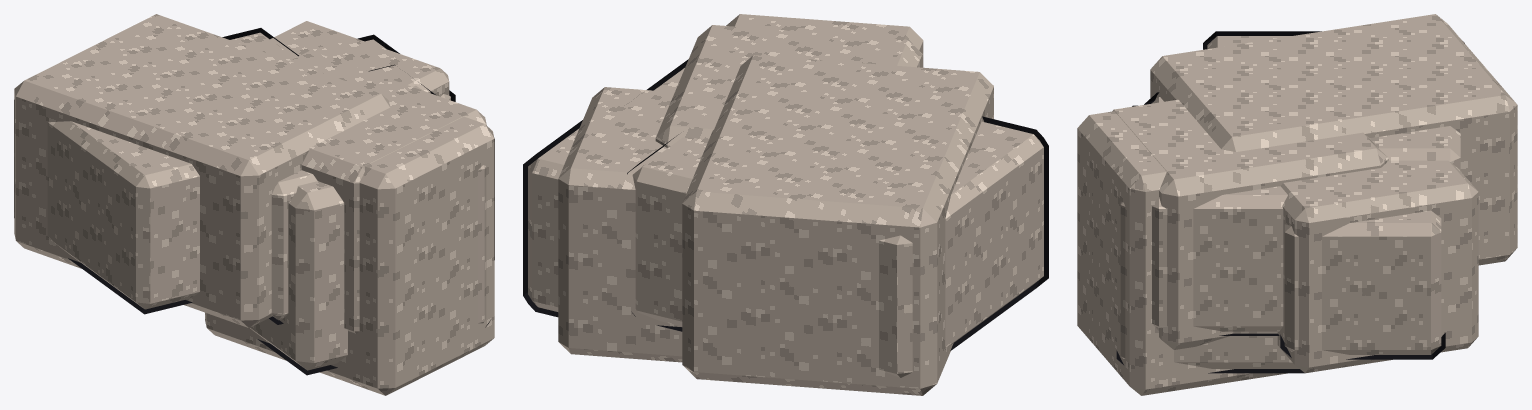
Rendered from env_forest_rock.glb.
The picture shows the model from 3 angles, left to right: view 1: azimuth 30°, elevation 25°; view 2: azimuth 150°, elevation 25°; view 3: azimuth 270°, elevation 25°; orthographic projection. The views are drawn at different scales.
Visible parts, largest first — view 1: model; view 2: model; view 3: model.
Part boxes in pixels (x1=…): model: x1=14, y1=14, x2=494, y2=395; model: x1=523, y1=14, x2=1048, y2=395; model: x1=1077, y1=14, x2=1517, y2=395.
Size of the model in its own units: 1.63 by 0.9804 by 1.69.
Materials: 2 (1 with a texture image).
